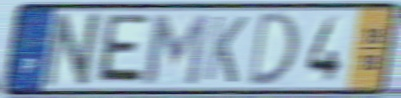4: (304, 14, 344, 84)
D: (245, 9, 301, 90)
E: (92, 11, 153, 87)
K: (201, 13, 250, 86)
M: (142, 11, 212, 88)
N: (40, 10, 108, 90)
